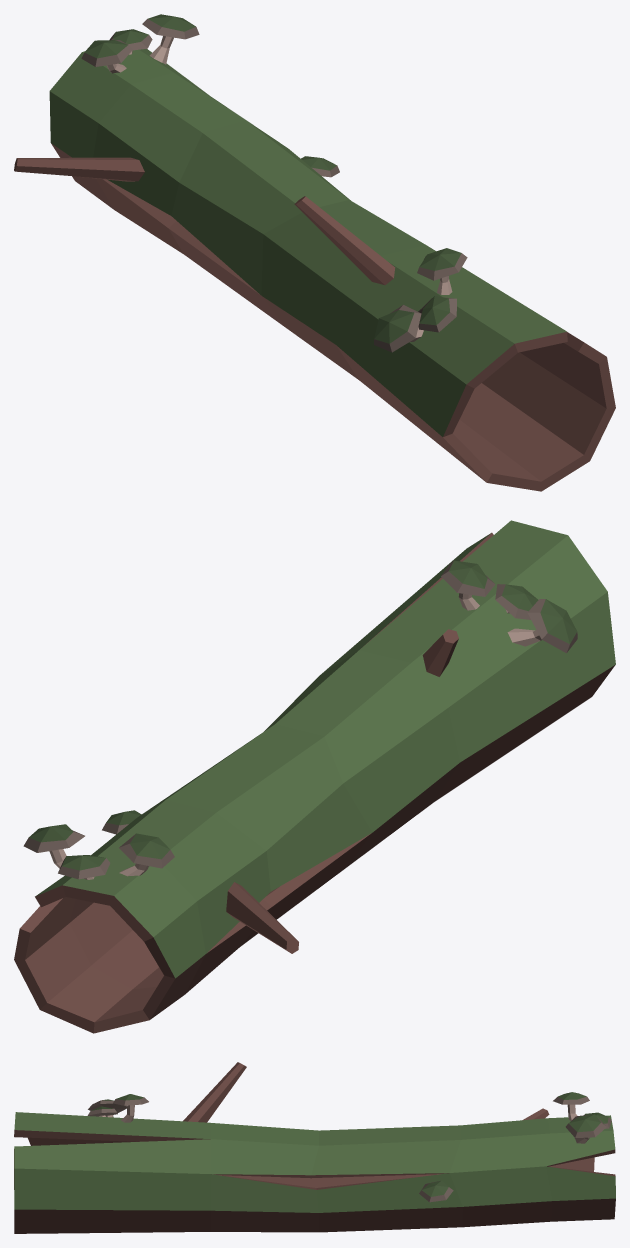
File: woodlog_moss.glb
The picture shows the model from 3 angles, top to bottom: view 1: azimuth 30°, elevation 25°; view 2: azimuth 150°, elevation 25°; view 3: azimuth 270°, elevation 25°; orthographic projection. The views are drawn at different scales.
Parts seen in each view (by area): view 1: WoodLog_Moss; view 2: WoodLog_Moss; view 3: WoodLog_Moss.
Part boxes in pixels (x1,y1,x2,y2): WoodLog_Moss: [14, 14, 615, 491]; WoodLog_Moss: [14, 520, 615, 1033]; WoodLog_Moss: [14, 1062, 615, 1233].
Bounding box in the file's own units: 0.8966 × 0.6883 × 2.67.
